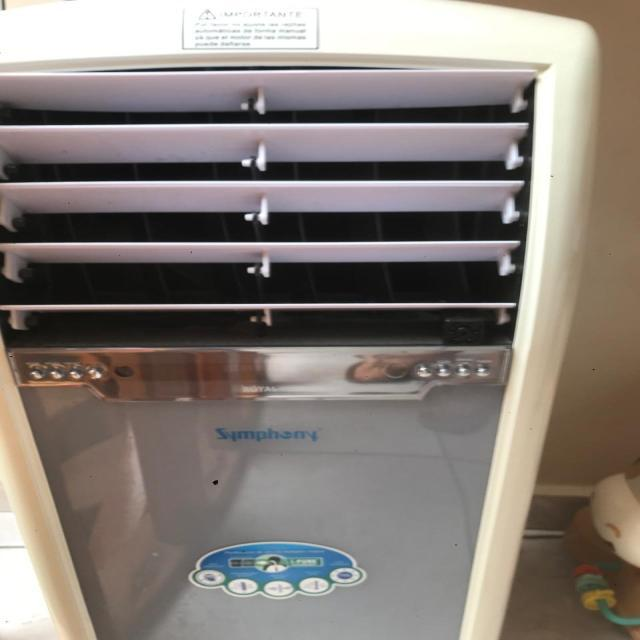hidden camera: (455, 327, 472, 340)
